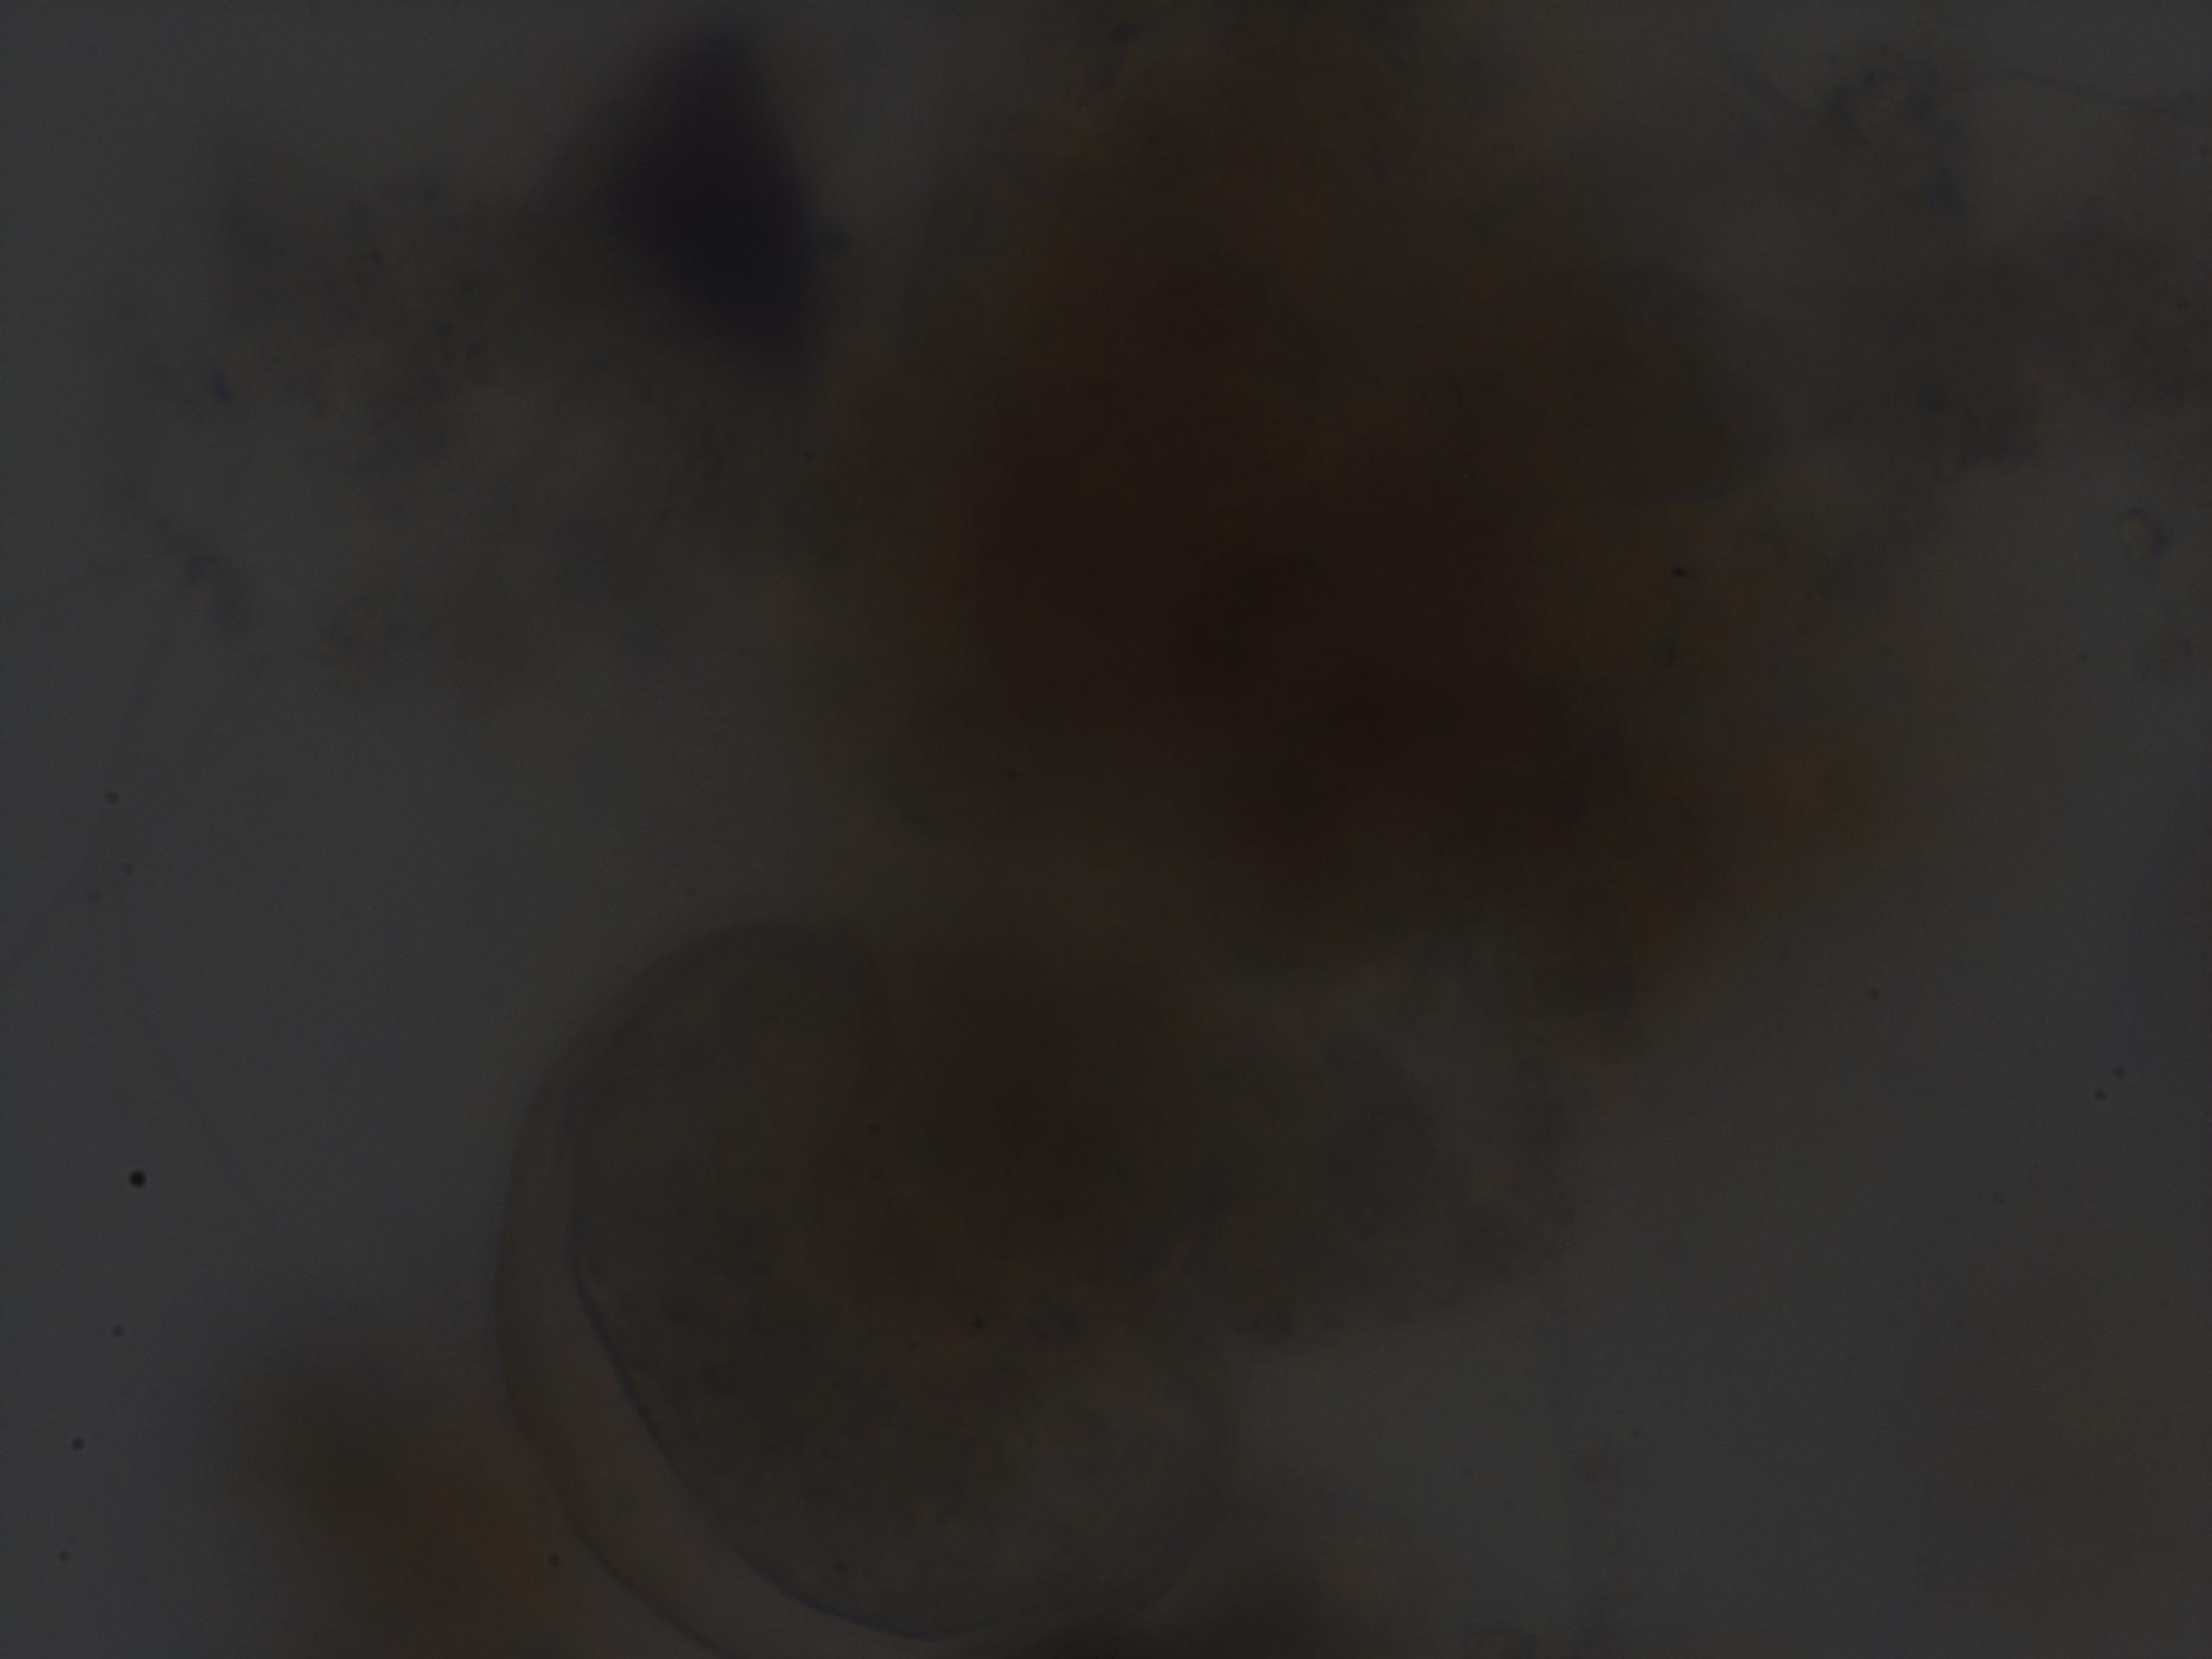protozoa: (479, 920, 1273, 1659)
